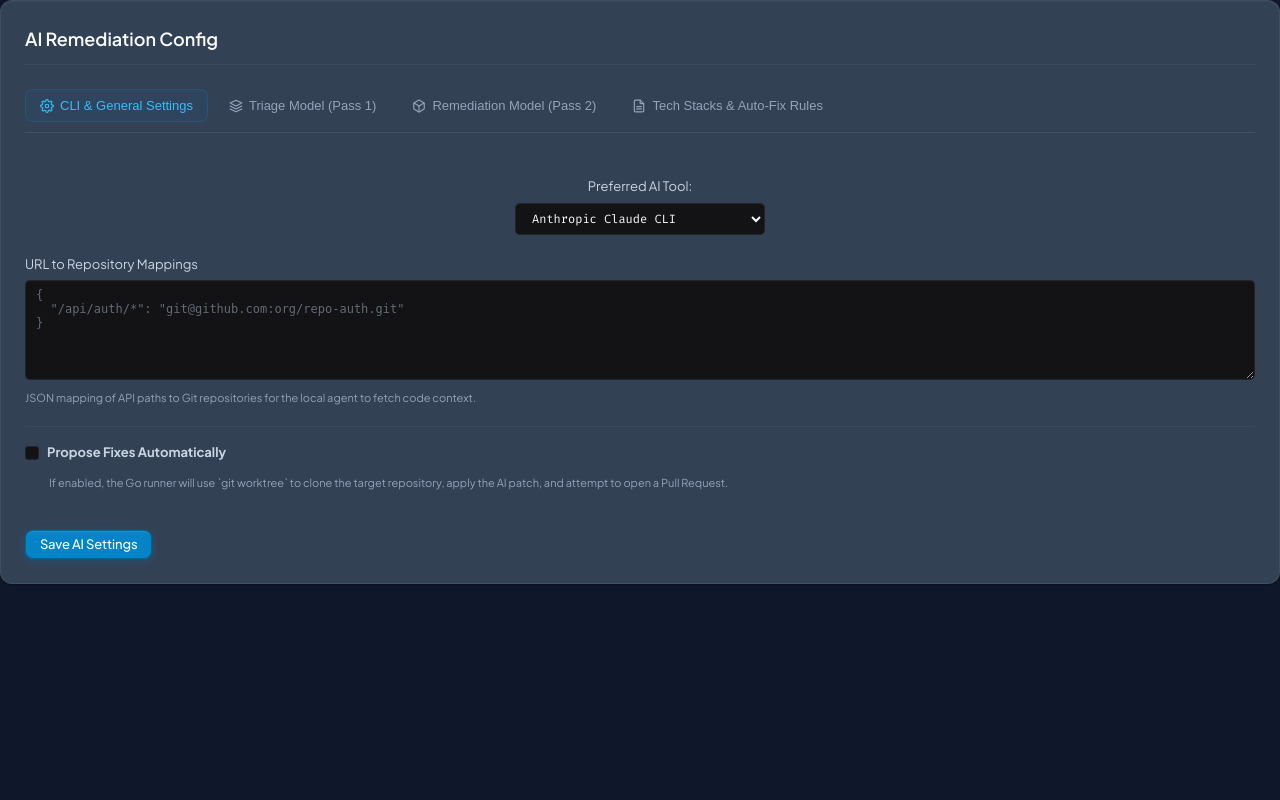
AiRemediationTab Component › switches to Tech Stacks & Auto-Fix Rules sub-tab and renders tech stack checkboxes
Step 1. Click the tab "Tech Stacks & Auto-Fix Rules" → {"x": 728, "y": 106}, box [617,89,838,122]
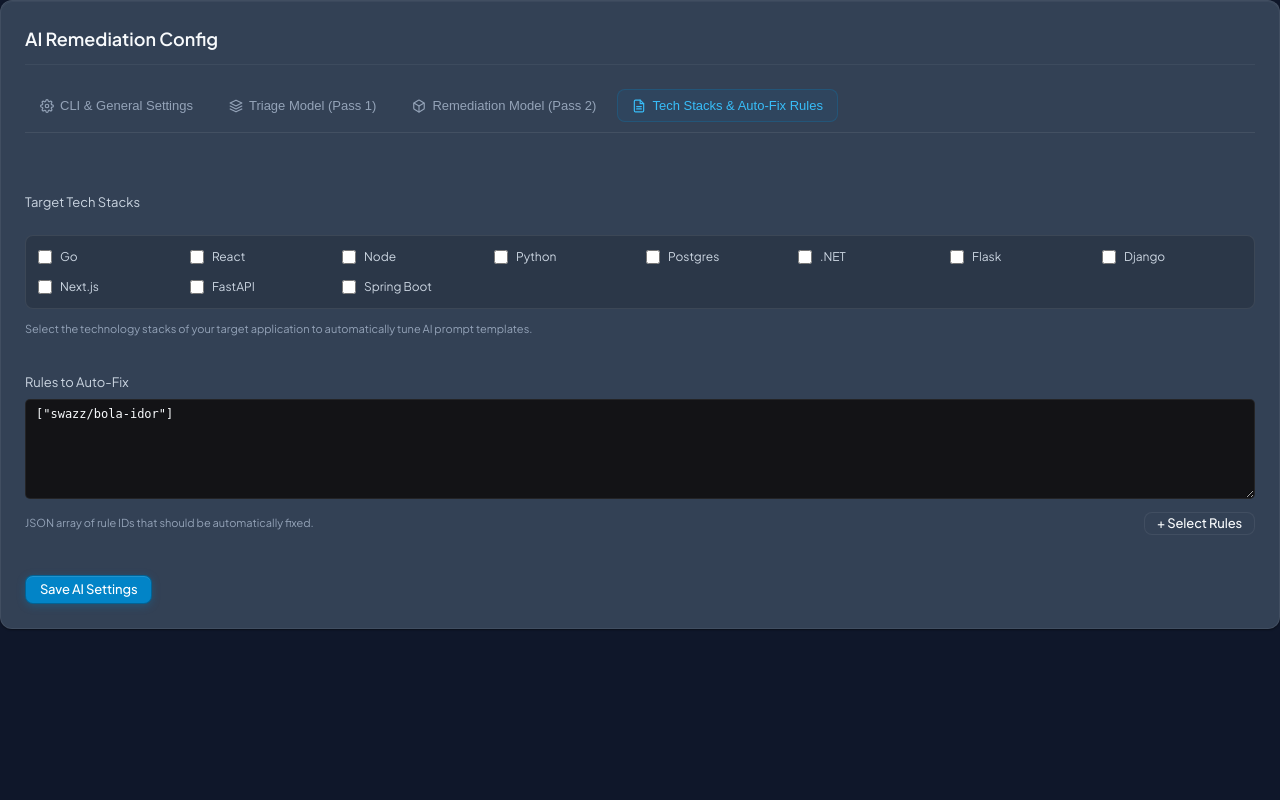
Check: the text "Target Tech Stacks" is shown, box [25,194,140,210]
Check: the checkbox labelled "Go" is shown, box [38,250,52,264]
Check: the checkbox labelled "React" is shown, box [190,250,204,264]
